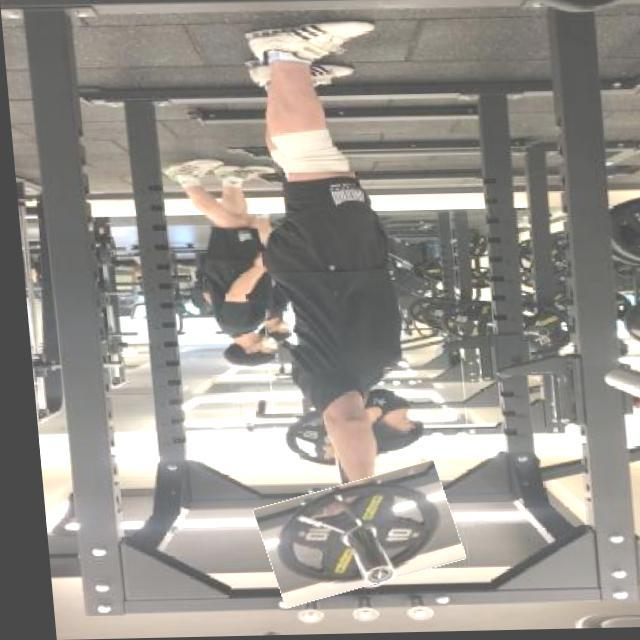barbell: (246, 473, 454, 600)
